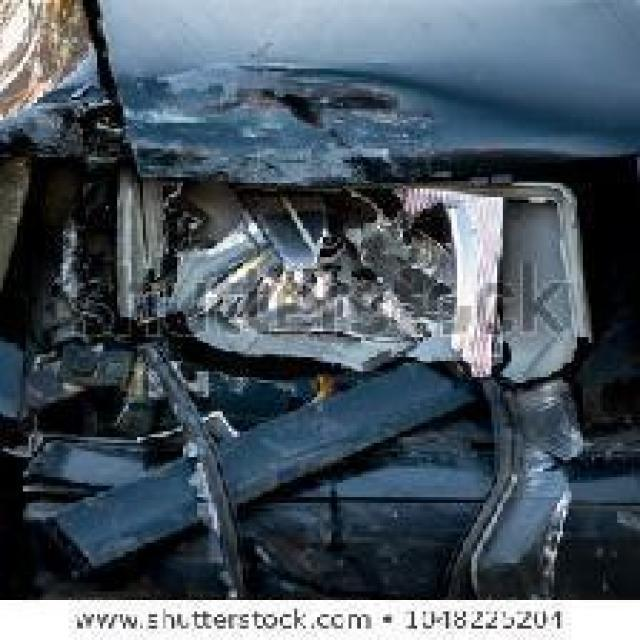damaged: (0, 57, 637, 606)
